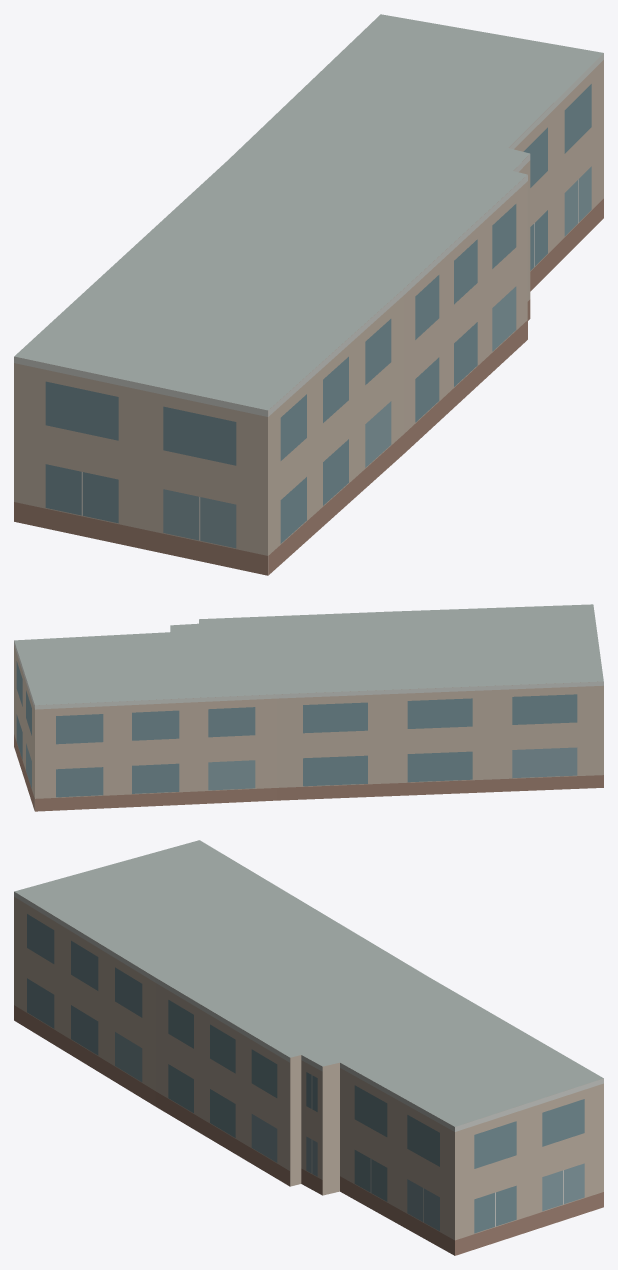
Rendered from survey-upis-32926920.glb.
The picture shows the model from 3 angles, top to bottom: view 1: azimuth 30°, elevation 25°; view 2: azimuth 150°, elevation 25°; view 3: azimuth 270°, elevation 25°; orthographic projection. The views are drawn at different scales.
Visible parts, largest first — view 1: survey-upis-32926920.tmp; view 2: survey-upis-32926920.tmp; view 3: survey-upis-32926920.tmp.
Part boxes in pixels (x1,y1,x2,y2): survey-upis-32926920.tmp: (14,14,603,575); survey-upis-32926920.tmp: (14,604,603,811); survey-upis-32926920.tmp: (14,840,603,1255).
Size of the model in its own units: 29.12 by 6.1 by 25.3.
